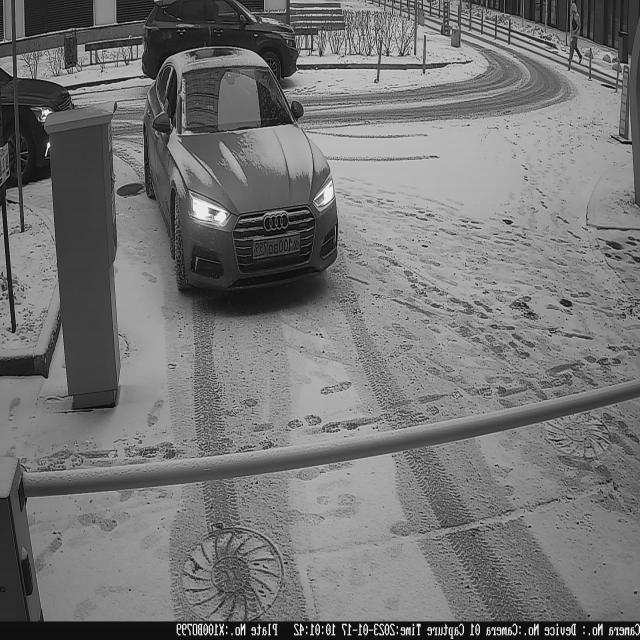car-plate-numbers: (248, 230, 306, 266)
